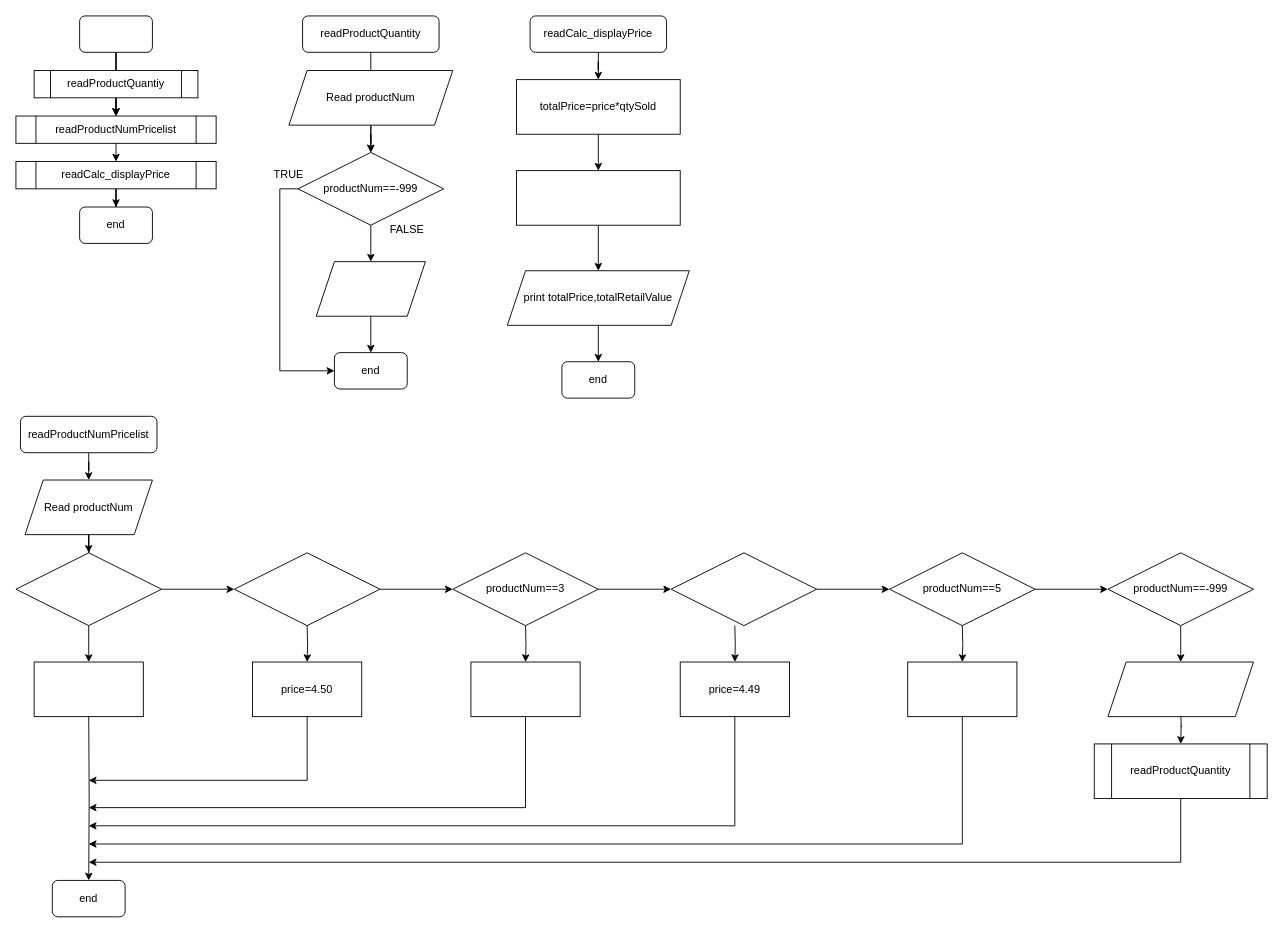
This 1283x933 diagram has some shape labels left out. Each missing label, with the centre of its shape:
price=2.98: (88,689)
price=6.87: (962,689)
price=9.98: (525,689)
print error message: (1180,689)
productNum==1: (88,589)
productNum==2: (306,589)
productNum==4: (743,589)
Read qtySold: (370,288)
start: (115,33)
totalRetailValue += totalPrice: (598,197)
